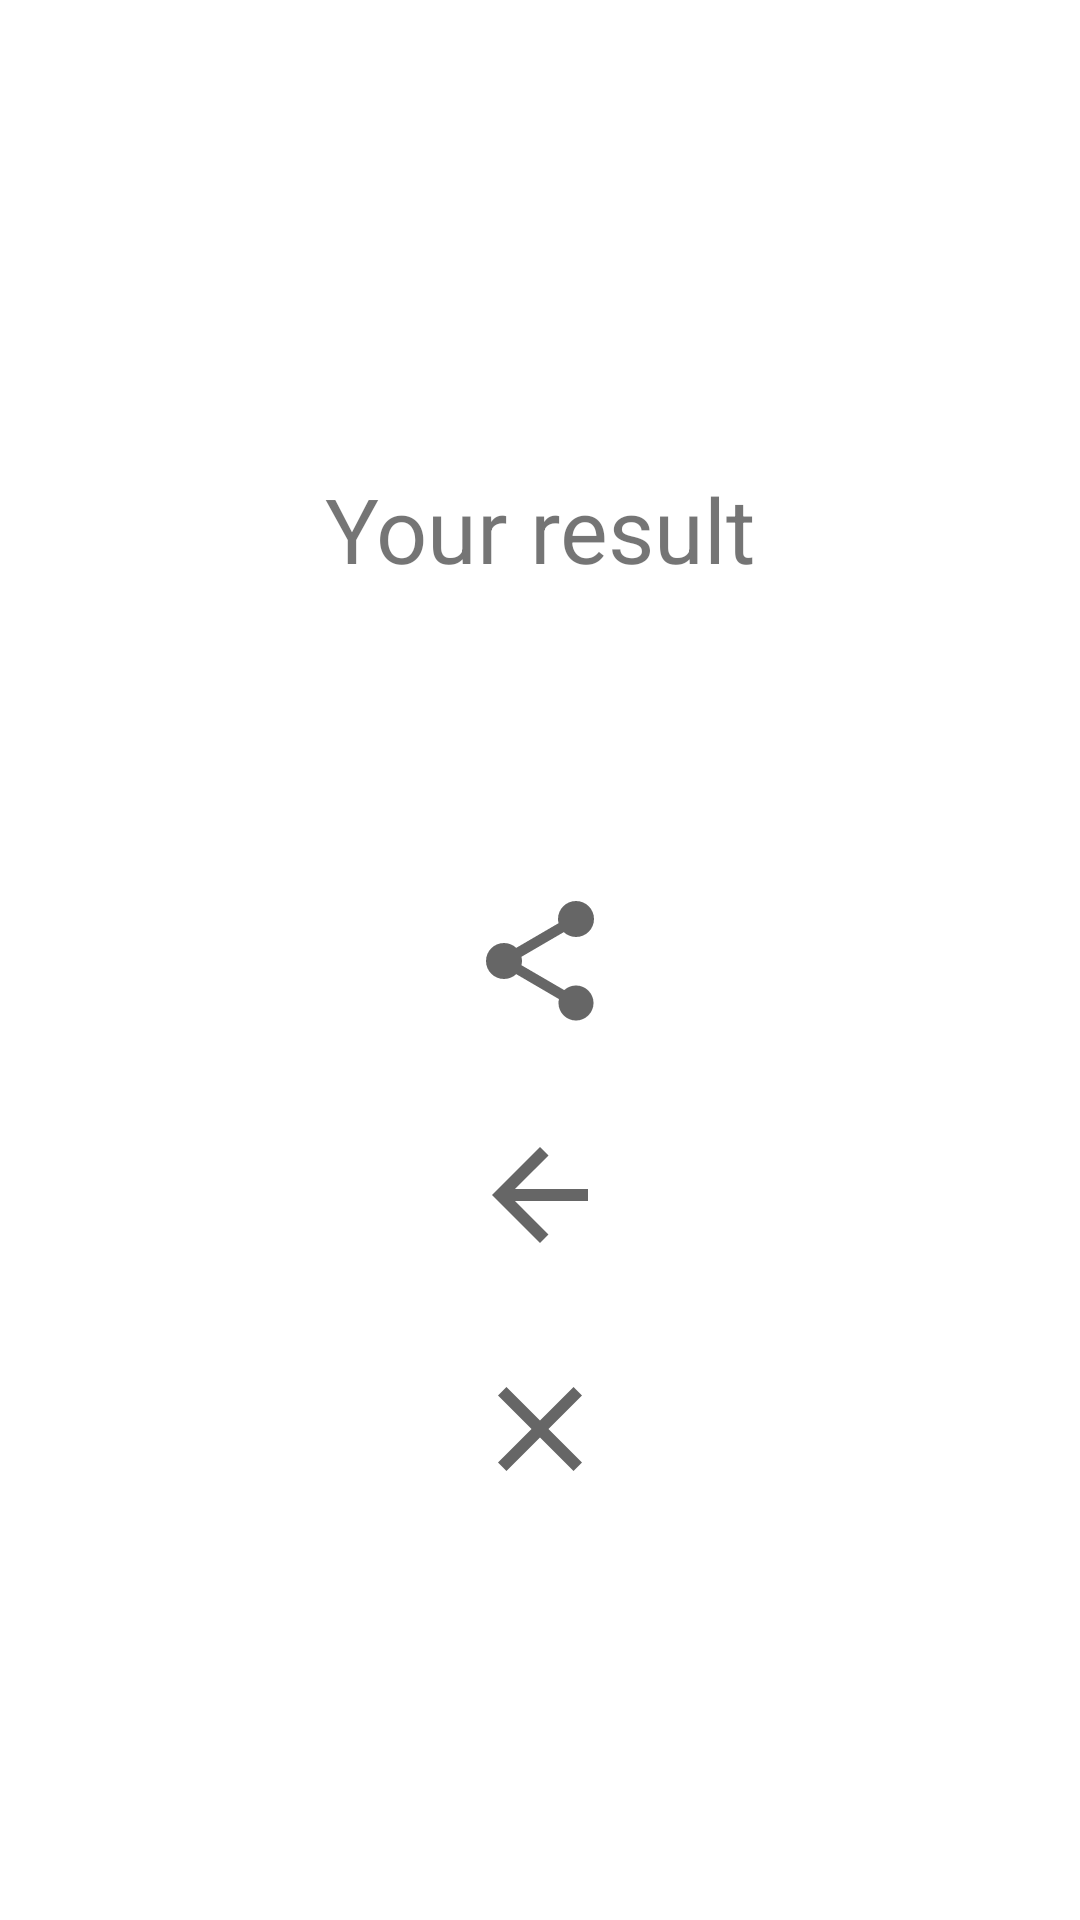

Icons on this 1080 x 1920 Android screen, each with the point to tap as point (x, y):
back: point (540, 1195)
close: point (540, 1429)
share: point (540, 961)
